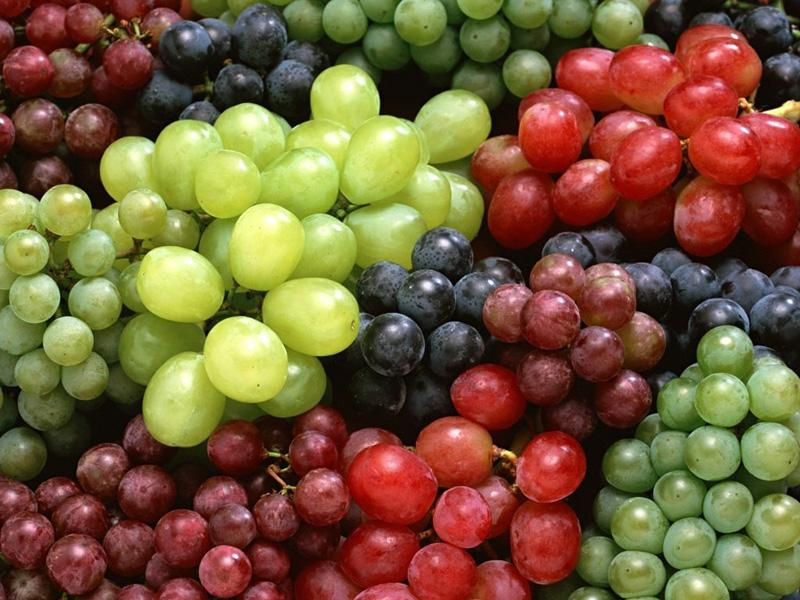grape: (7, 85, 440, 437), (8, 412, 578, 600), (469, 26, 800, 249), (593, 335, 800, 600)
